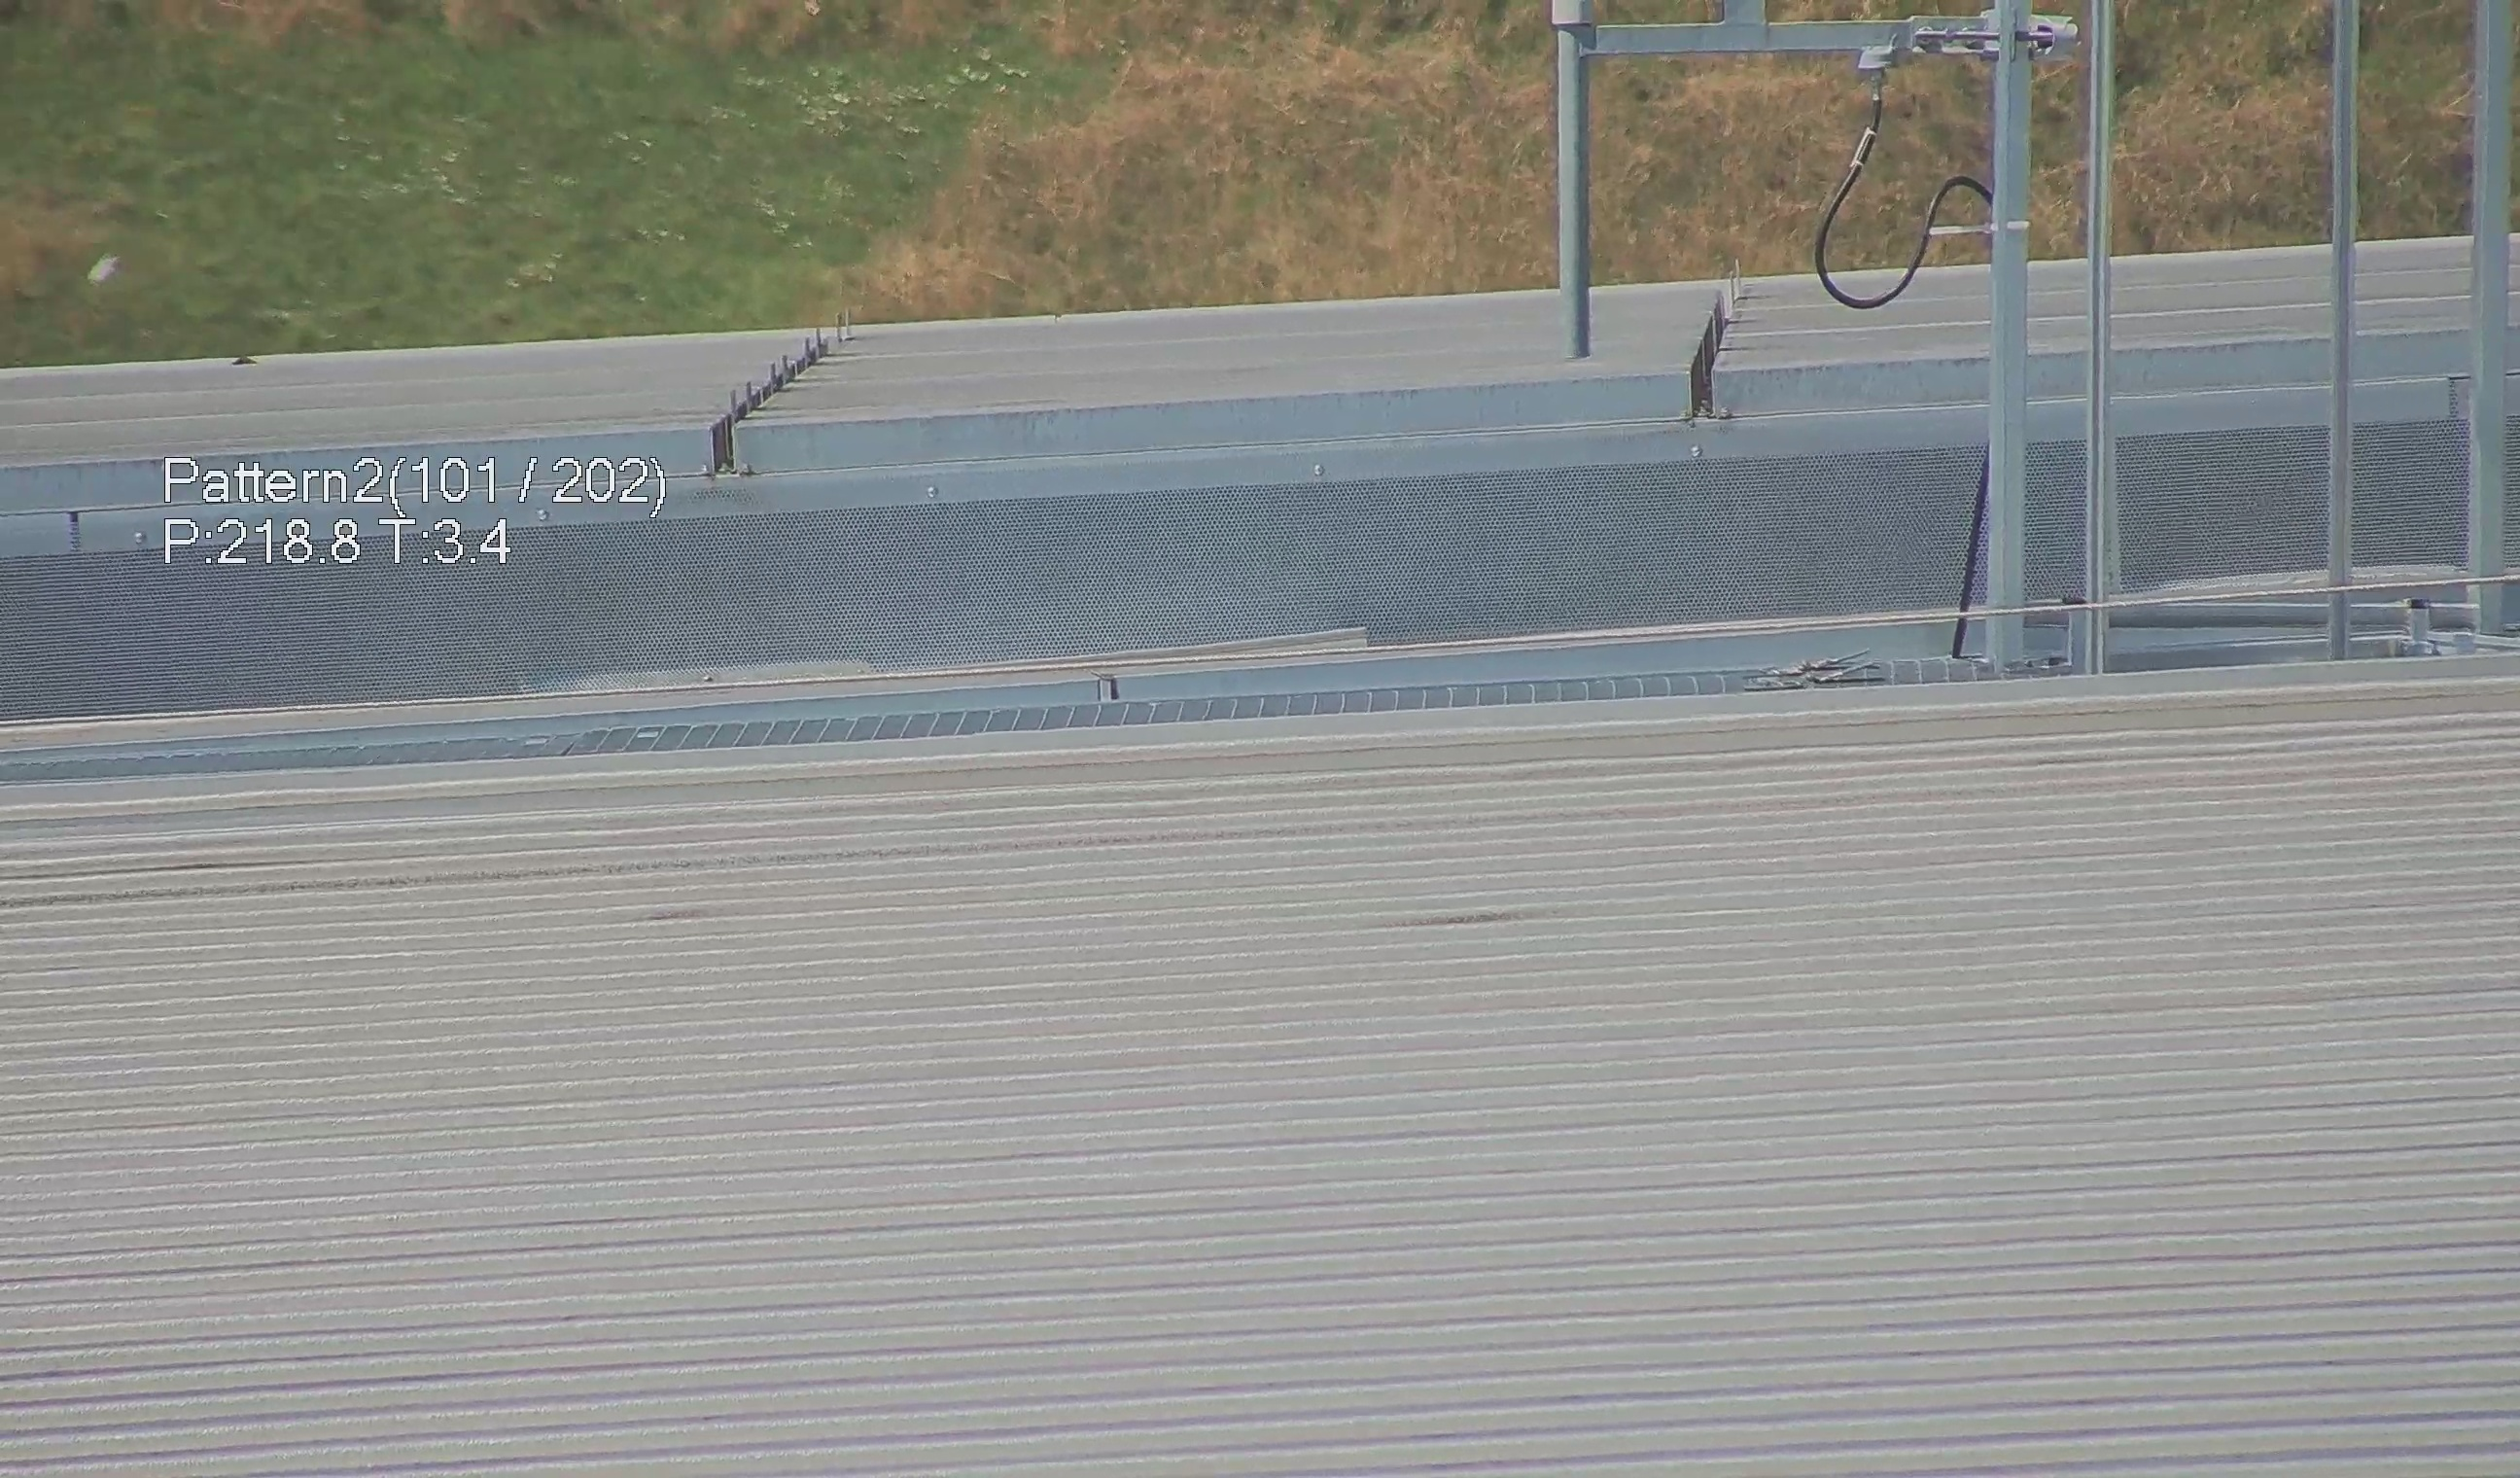Other: (1679, 276, 1755, 428)
